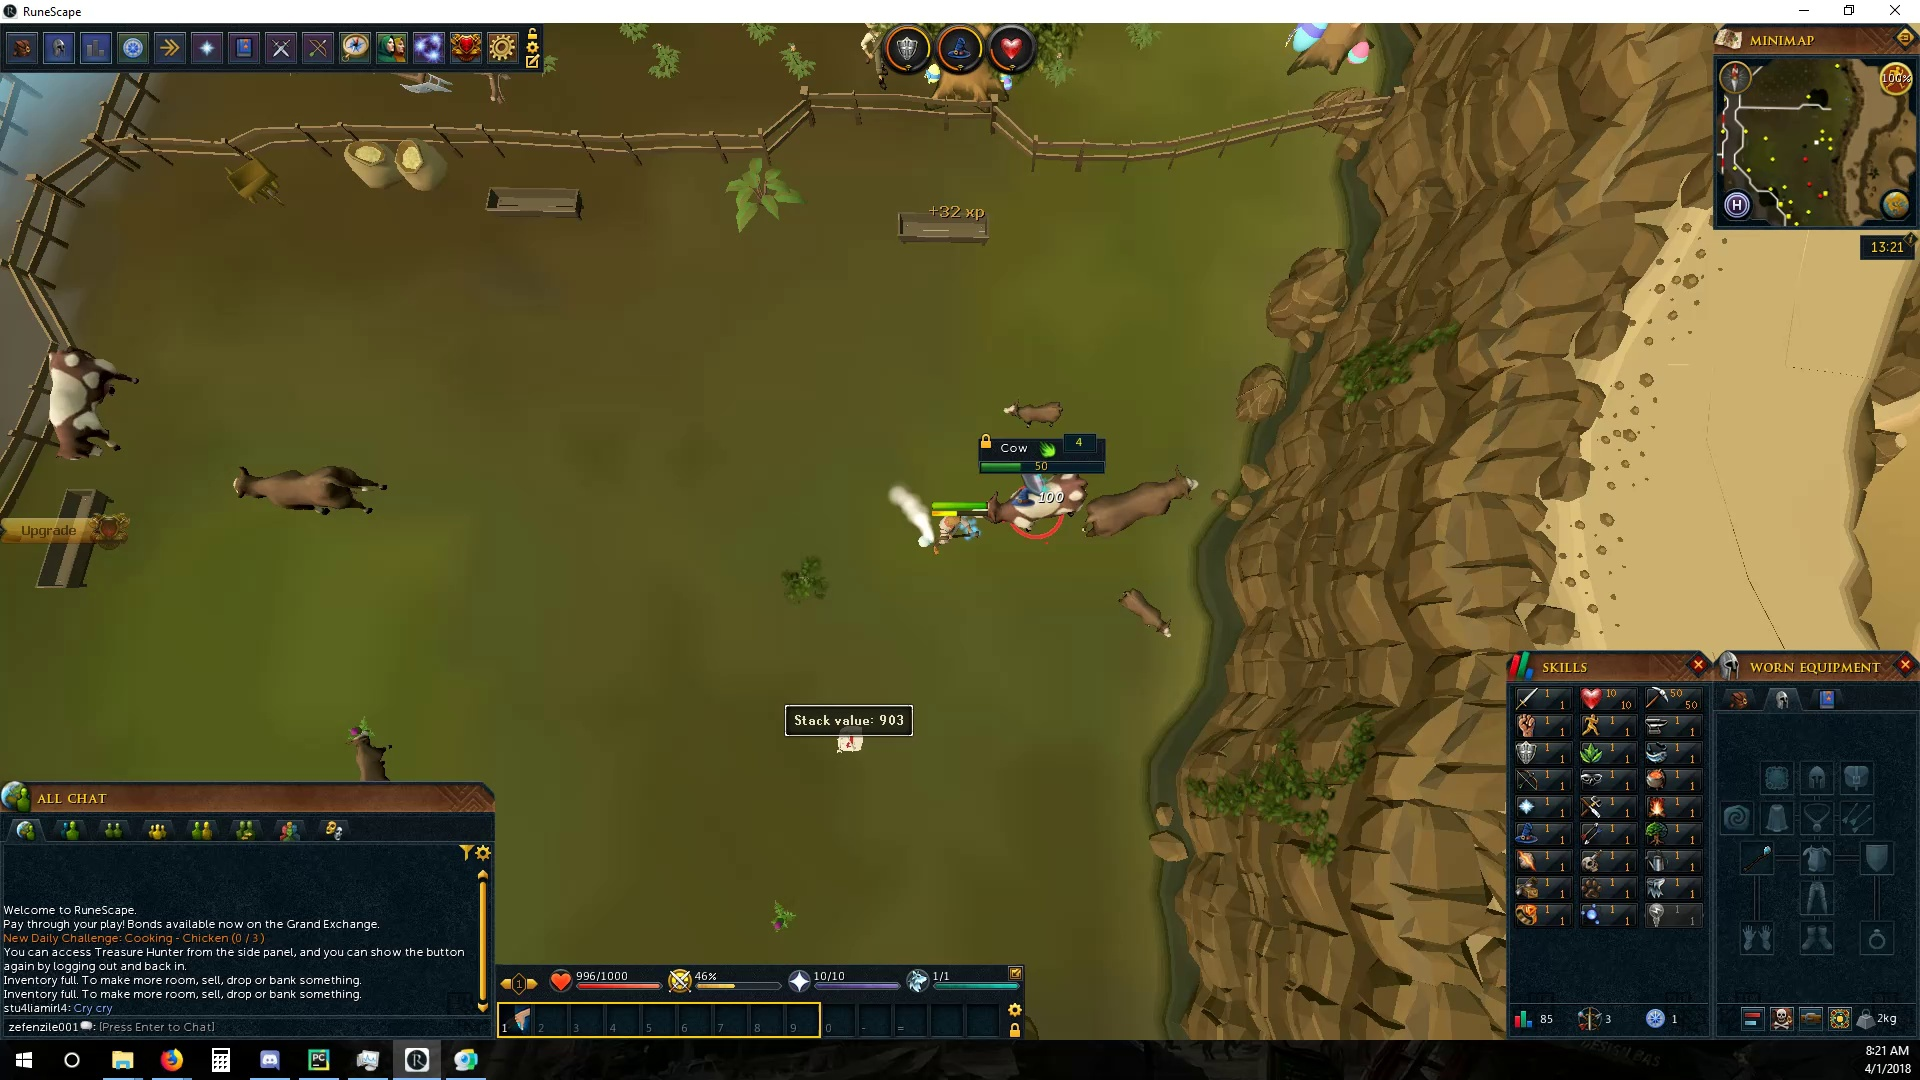calf: (1116, 585, 1179, 640), (344, 733, 398, 785), (1001, 400, 1069, 426)
cow: (44, 343, 140, 462), (228, 463, 392, 520), (1076, 465, 1203, 538), (984, 475, 1091, 533)
cow_drop: (833, 727, 869, 760)
